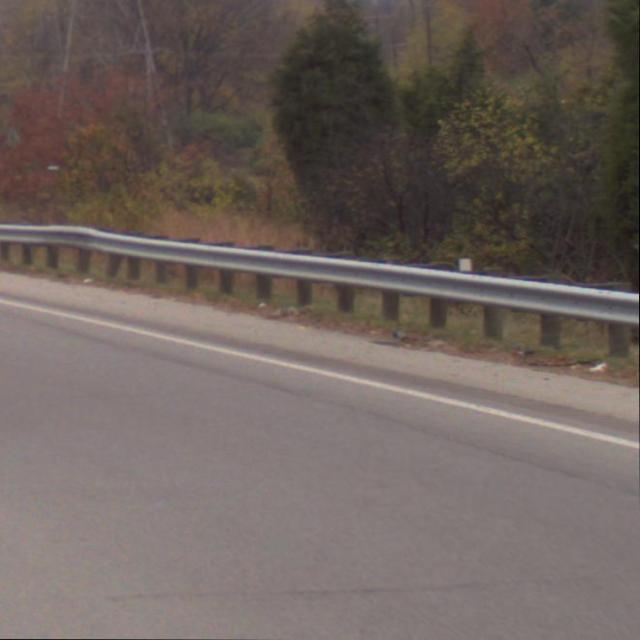Guard rail: (0, 224, 640, 360)
